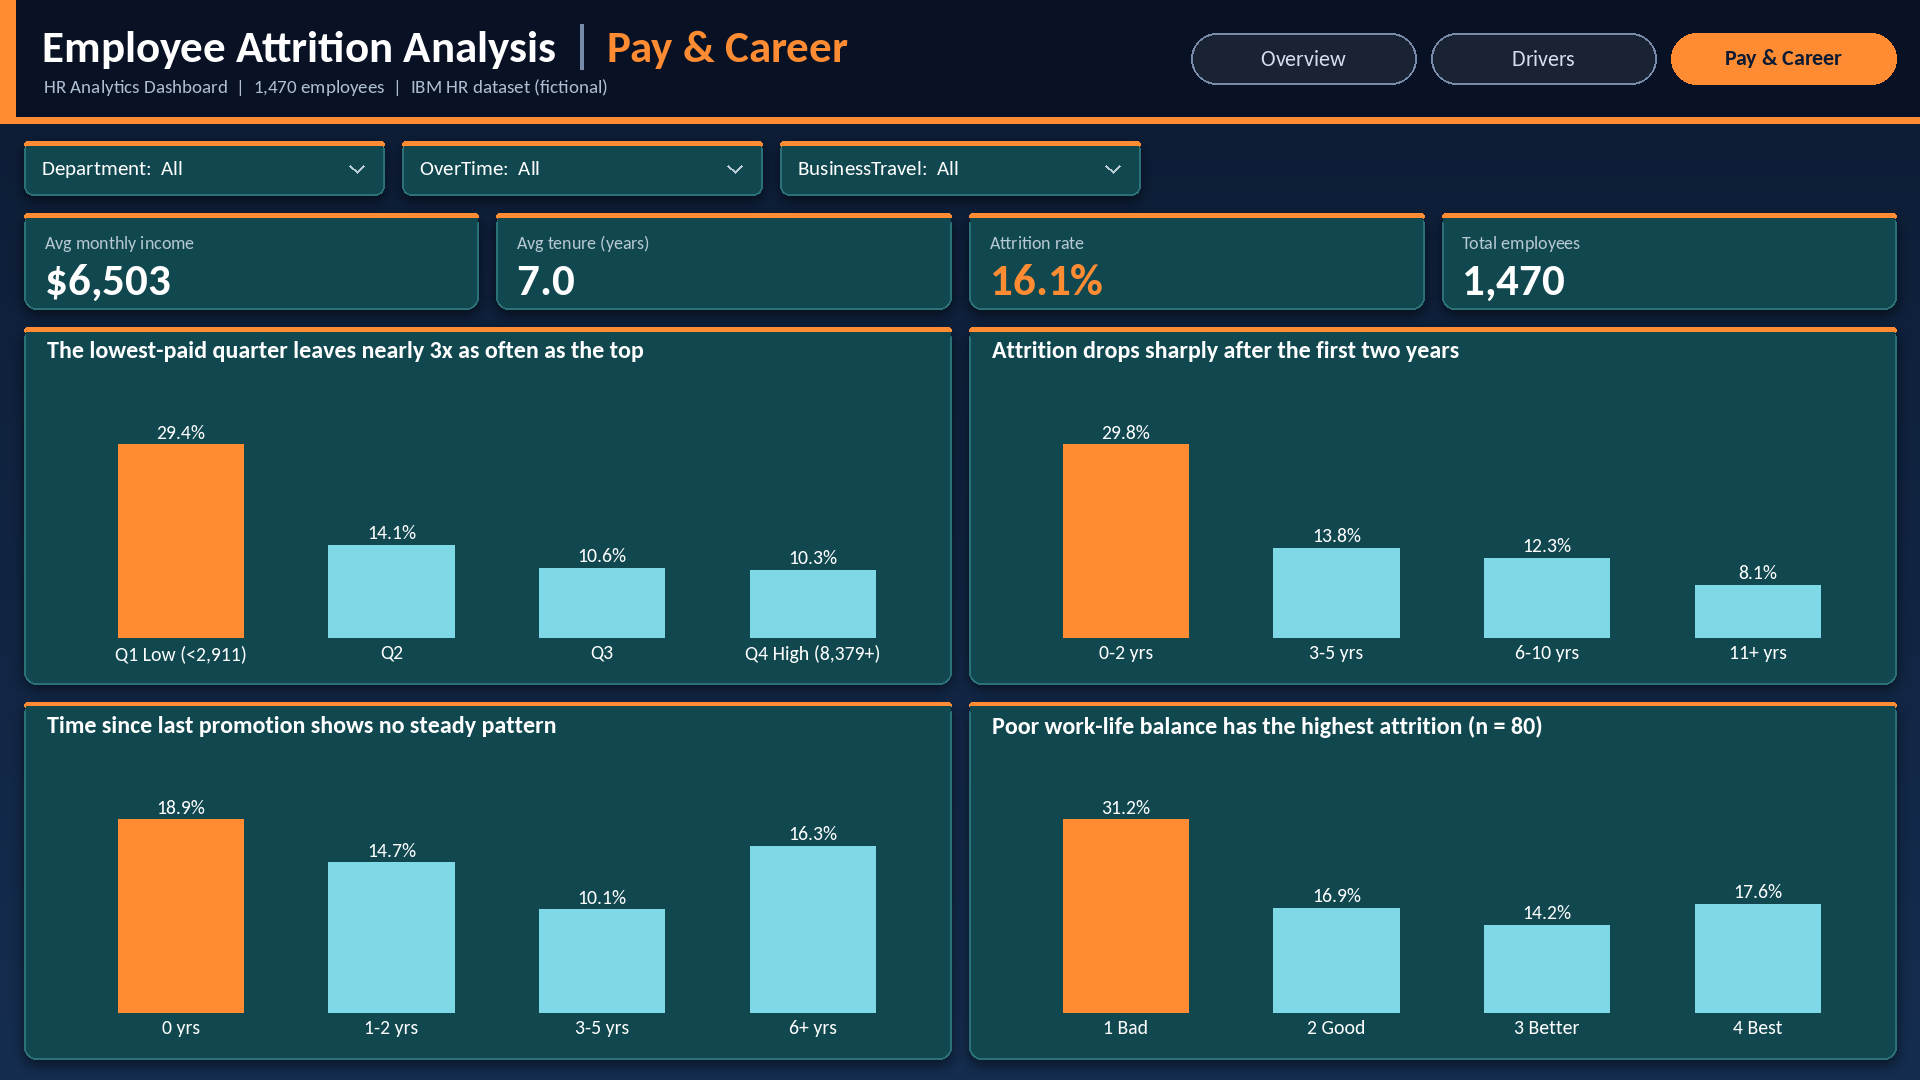

The dashboard page shown, as its layout file describes it:
{"tool":"powerbi","page":{"name":"Pay & Careers","canvas":[1920,1080],"ordinal":2},"visuals":[{"type":"slicer","title":"Department","fields":{"Values":["employees.Department"]},"box":[121.2,143,266,47.1],"z":0},{"type":"slicer","fields":{"Values":["employees.BusinessTravel"]},"box":[912.1,143,228,47.1],"z":1},{"type":"slicer","fields":{"Values":["employees.OverTime"]},"box":[492.2,143,267.8,47.1],"z":2},{"type":"textbox","box":[29,153.8,108.6,23.5],"z":3},{"type":"textbox","box":[412.6,153.8,92.3,23.5],"z":4},{"type":"textbox","box":[792.6,155.6,119.4,21.7],"z":5},{"type":"cardVisual","title":"Avg monthly income","fields":{"Data":["_measures.avg_monthly_income"]},"box":[29.4,215.3,447.2,90.2],"z":6},{"type":"cardVisual","title":"Avg tenure (years)","fields":{"Data":["_measures.avg_tenure_years"]},"box":[504.3,213.5,441.7,90.2],"z":7},{"type":"cardVisual","title":"Attrition rate","fields":{"Data":["_measures.attrition_rate"]},"box":[977.3,213.5,417.8,90.2],"z":8},{"type":"cardVisual","title":"Total Employees","fields":{"Data":["_measures.total_employees"]},"box":[1455.8,213.5,358.3,90.5],"z":9},{"type":"clusteredColumnChart","title":"The lowest-paid quarter leaves nearly 3x as often as the top","fields":{"Category":["employees.income_band"],"Y":["_measures.attrition_rate"]},"box":[29.4,327.6,931.3,351.5],"z":10},{"type":"clusteredColumnChart","title":"Attrition drops sharply after the first two years","fields":{"Category":["employees.tenure_band"],"Y":["_measures.attrition_rate"]},"box":[977.3,327.6,931.3,351.5],"z":11},{"type":"clusteredColumnChart","title":"Time since last promotion shows no steady pattern","fields":{"Category":["employees.promotion_band"],"Y":["_measures.attrition_rate"]},"box":[29.4,701.2,931.3,351.5],"z":12},{"type":"clusteredColumnChart","title":"Poor work-life balance has the highest attrition (n = 80)","fields":{"Category":["employees.work_life_balance_label"],"Y":["_measures.attrition_rate"]},"box":[977.3,701.2,931.3,351.5],"z":13},{"type":"pageNavigator","box":[1187.1,25.8,708.6,57.1],"z":14}]}

Visuals, with their boxes in screenshot pixels (x1, y1, x2, y2), scaled from the page's 1920x1080 canvas onto the 1920x1080 screenshot:
"Department" slicer: <bbox>121, 143, 387, 190</bbox>
slicer - employees.BusinessTravel: <bbox>912, 143, 1140, 190</bbox>
slicer - employees.OverTime: <bbox>492, 143, 760, 190</bbox>
textbox: <bbox>29, 154, 138, 177</bbox>
textbox: <bbox>413, 154, 505, 177</bbox>
textbox: <bbox>793, 156, 912, 177</bbox>
"Avg monthly income" cardVisual: <bbox>29, 215, 477, 306</bbox>
"Avg tenure (years)" cardVisual: <bbox>504, 214, 946, 304</bbox>
"Attrition rate" cardVisual: <bbox>977, 214, 1395, 304</bbox>
"Total Employees" cardVisual: <bbox>1456, 214, 1814, 304</bbox>
"The lowest-paid quarter leaves nearly 3x as often as the top" clusteredColumnChart: <bbox>29, 328, 961, 679</bbox>
"Attrition drops sharply after the first two years" clusteredColumnChart: <bbox>977, 328, 1909, 679</bbox>
"Time since last promotion shows no steady pattern" clusteredColumnChart: <bbox>29, 701, 961, 1053</bbox>
"Poor work-life balance has the highest attrition (n = 80)" clusteredColumnChart: <bbox>977, 701, 1909, 1053</bbox>
pageNavigator: <bbox>1187, 26, 1896, 83</bbox>
